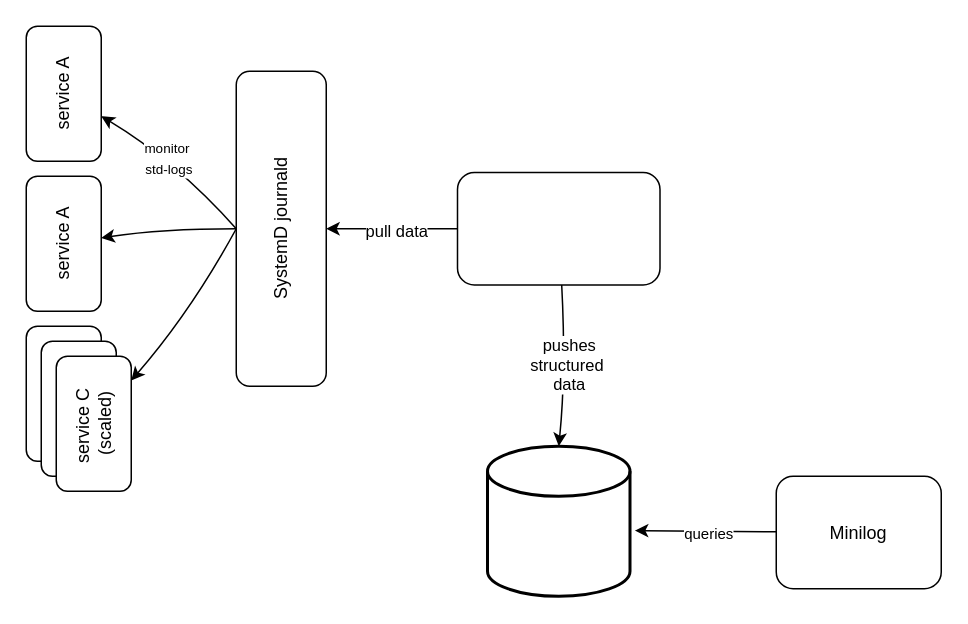
Some shapes in this 968 by 624 pixel diagram are drawn without their labels. Here are the shapes that lost their labels. From the top down, the centre of each, then its label:
At (x=558, y=228): "DataDog Vector - Transforms & add structure".
At (x=558, y=520): "TimescaleDB (Postgres)".
